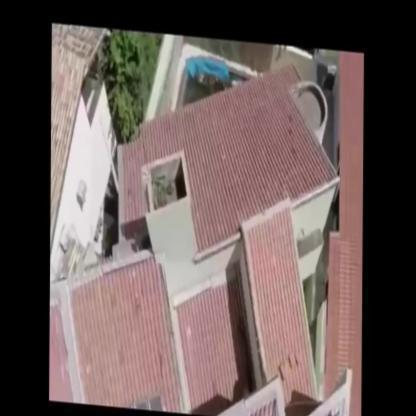agua: (185, 69, 207, 98)
